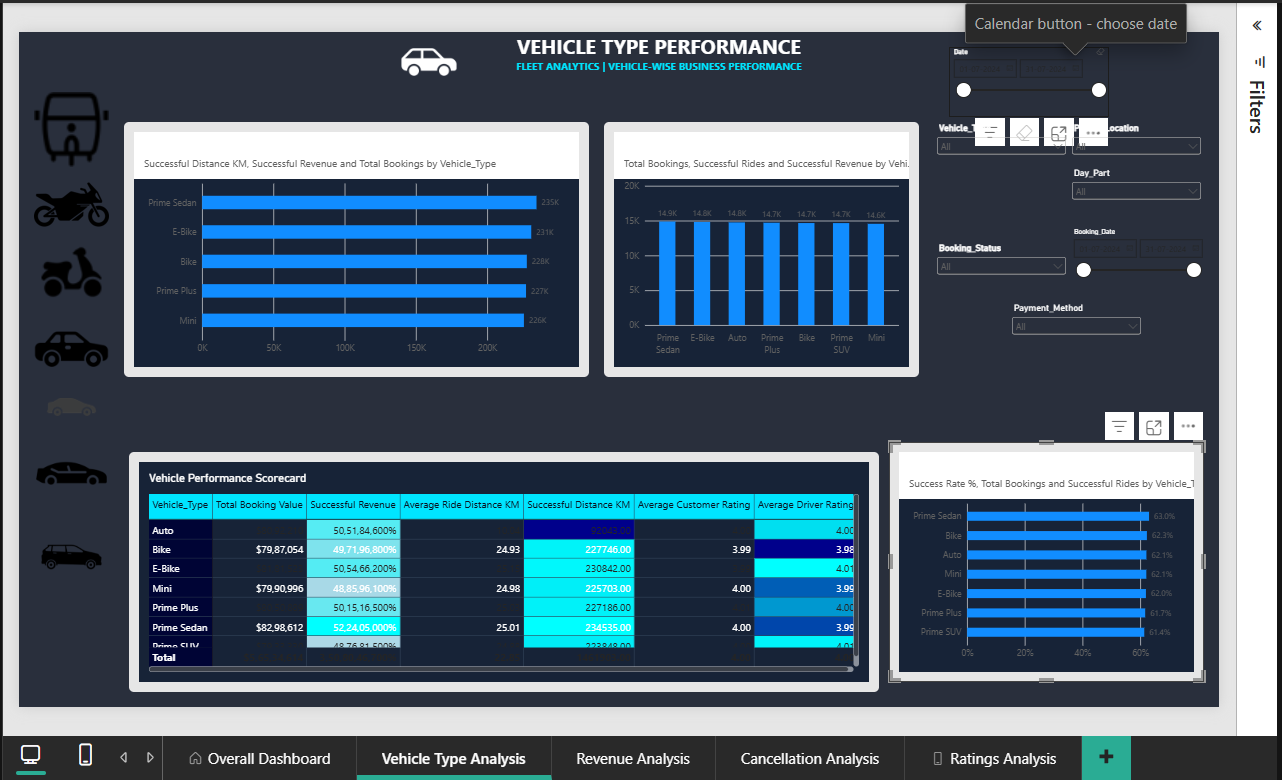

What the dashboard file says about the page in this screenshot:
{"tool":"powerbi","page":{"name":"Vehicle Type Analysis","canvas":[1920,1080],"ordinal":1},"visuals":[{"type":"textbox","box":[752,0,544,80],"z":0},{"type":"clusteredBarChart","title":"Top 5 Vehicles by Successful Distance","fields":{"Category":["ola_ride_insights ola_rides.Vehicle_Type"],"Y":["ola_ride_insights ola_rides.Successful Distance KM"]},"box":[168,144,744,408],"z":1000},{"type":"image","box":[552,0,208,96],"z":2000},{"type":"pivotTable","title":"Vehicle Performance Scorecard ","fields":{"Rows":["ola_ride_insights ola_rides.Vehicle_Type"],"Values":["ola_ride_insights ola_rides.Total Booking Value","ola_ride_insights ola_rides.Successful Revenue","ola_ride_insights ola_rides.Average Ride Distance KM","ola_ride_insights ola_rides.Successful Distance KM","ola_ride_insights ola_rides.Average Customer Rating","ola_ride_insights ola_rides.Average Driver Rating"]},"box":[168,576,1200,384],"z":3000},{"type":"clusteredColumnChart","title":"Booking Volume by Vehicle Type","fields":{"Category":["ola_ride_insights ola_rides.Vehicle_Type"],"Y":["ola_ride_insights ola_rides.Total Bookings"]},"box":[936,144,504,408],"z":4000},{"type":"clusteredBarChart","title":"Success Rate by Vehicle Type","fields":{"Category":["ola_ride_insights ola_rides.Vehicle_Type"],"Y":["ola_ride_insights ola_rides.Success Rate %"]},"box":[1392,576,504,384],"z":5000},{"type":"image","box":[24,96,120,120],"z":6000},{"type":"image","box":[24,216,120,120],"z":7000},{"type":"image","box":[24,336,120,96],"z":8000},{"type":"image","box":[24,456,120,120],"z":9000},{"type":"image","box":[24,552,120,96],"z":10000},{"type":"image","box":[24,648,120,120],"z":11000},{"type":"image","box":[24,792,120,96],"z":12000},{"type":"slicer","fields":{"Values":["ola_ride_insights ola_rides.Booking_Date"]},"box":[1680,312,216,96],"z":12001},{"type":"slicer","fields":{"Values":["Calendar.Date"]},"box":[1488,24,256,112],"z":12002},{"type":"slicer","fields":{"Values":["ola_ride_insights ola_rides.Vehicle_Type"]},"box":[1464,144,216,72],"z":12003},{"type":"slicer","fields":{"Values":["ola_ride_insights ola_rides.Booking_Status"]},"box":[1464,336,216,72],"z":12004},{"type":"slicer","fields":{"Values":["ola_ride_insights ola_rides.Pickup_Location"]},"box":[1680,144,216,72],"z":12005},{"type":"slicer","fields":{"Values":["ola_ride_insights ola_rides.Payment_Method"]},"box":[1584,432,216,72],"z":12006},{"type":"slicer","fields":{"Values":["ola_ride_insights ola_rides.Day_Part"]},"box":[1680,216,216,72],"z":12007}]}

Visuals, with their boxes on the page's 1920x1080 design canvas (x1, y1, x2, y2). These are canvas units, not pixel positions in the 1282x780 screenshot, which may show the page scaled, cropped or inside an application window:
textbox: (left=752, top=0, right=1296, bottom=80)
"Top 5 Vehicles by Successful Distance" clusteredBarChart: (left=168, top=144, right=912, bottom=552)
image: (left=552, top=0, right=760, bottom=96)
"Vehicle Performance Scorecard " pivotTable: (left=168, top=576, right=1368, bottom=960)
"Booking Volume by Vehicle Type" clusteredColumnChart: (left=936, top=144, right=1440, bottom=552)
"Success Rate by Vehicle Type" clusteredBarChart: (left=1392, top=576, right=1896, bottom=960)
image: (left=24, top=96, right=144, bottom=216)
image: (left=24, top=216, right=144, bottom=336)
image: (left=24, top=336, right=144, bottom=432)
image: (left=24, top=456, right=144, bottom=576)
image: (left=24, top=552, right=144, bottom=648)
image: (left=24, top=648, right=144, bottom=768)
image: (left=24, top=792, right=144, bottom=888)
slicer - ola_ride_insights ola_rides.Booking_Date: (left=1680, top=312, right=1896, bottom=408)
slicer - Calendar.Date: (left=1488, top=24, right=1744, bottom=136)
slicer - ola_ride_insights ola_rides.Vehicle_Type: (left=1464, top=144, right=1680, bottom=216)
slicer - ola_ride_insights ola_rides.Booking_Status: (left=1464, top=336, right=1680, bottom=408)
slicer - ola_ride_insights ola_rides.Pickup_Location: (left=1680, top=144, right=1896, bottom=216)
slicer - ola_ride_insights ola_rides.Payment_Method: (left=1584, top=432, right=1800, bottom=504)
slicer - ola_ride_insights ola_rides.Day_Part: (left=1680, top=216, right=1896, bottom=288)
